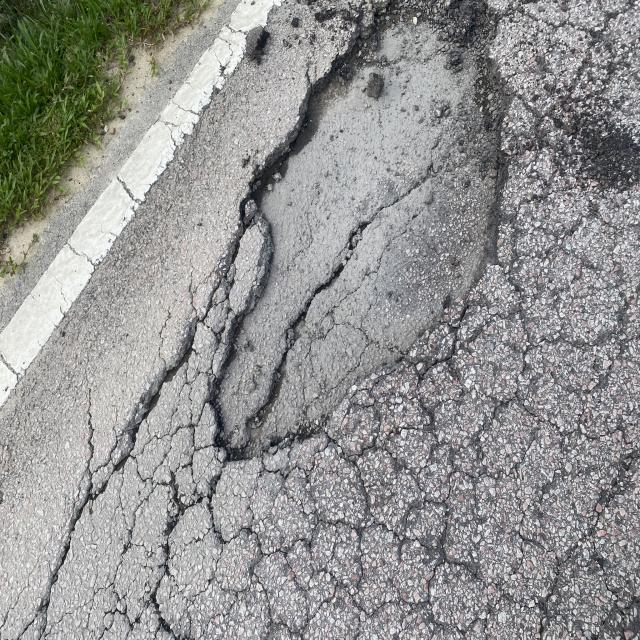pothole: (210, 0, 606, 542)
